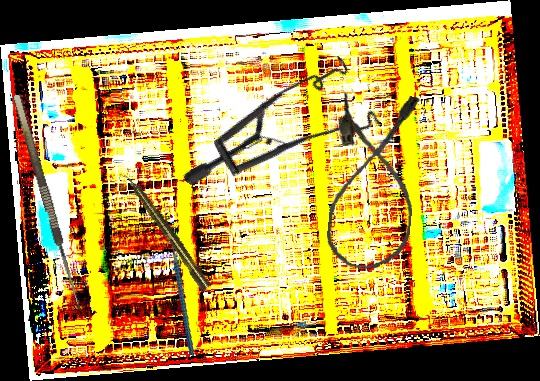Cannula: (324, 89, 424, 273)
Chopper: (143, 229, 213, 356)
Handpiece: (119, 168, 214, 294)
Hook Surgical: (12, 90, 95, 313)
Speculum: (181, 22, 398, 254)
